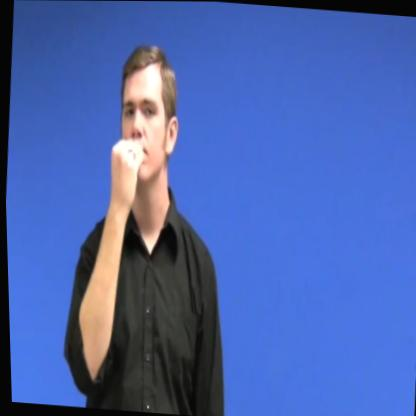Food: (104, 32, 194, 192)
